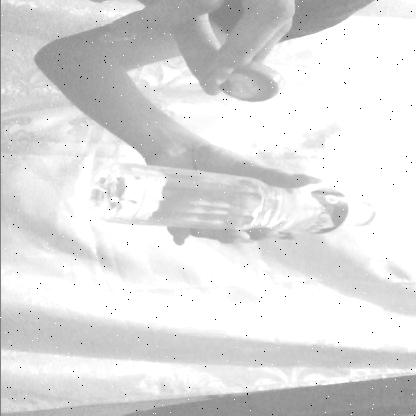Plastic Bottle: (66, 162, 403, 244)
